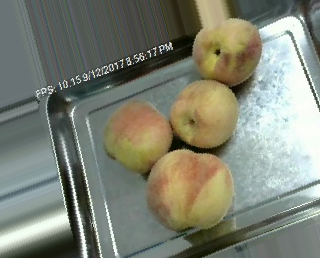Peach: (146, 150, 233, 231), (103, 97, 171, 172), (192, 16, 262, 86), (170, 78, 238, 148)
